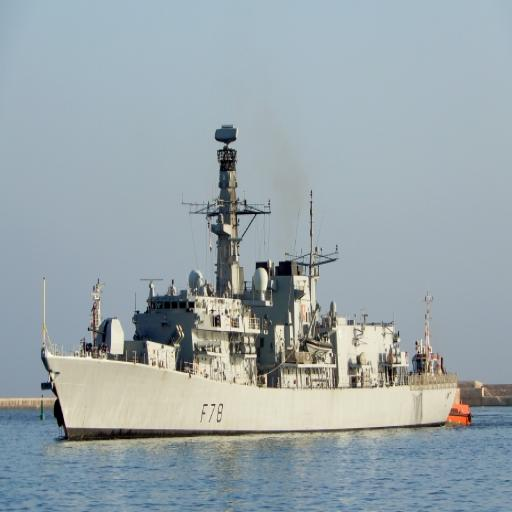Fragata: (44, 123, 463, 444)
